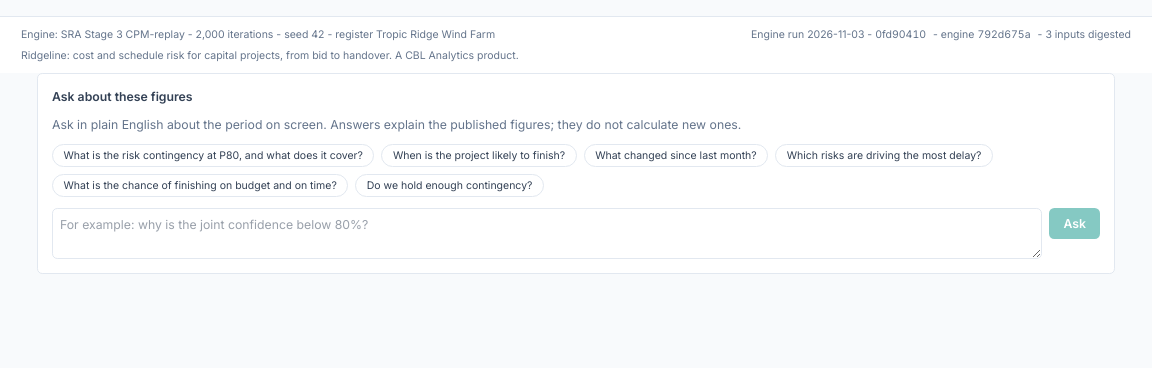
Test: the Ask box › sends only app, project, period id and question
Click the button "What is the risk contingency at P80, and what does it cover?" at coordinates (213, 156), box x1=52 y1=144 x2=374 y2=167
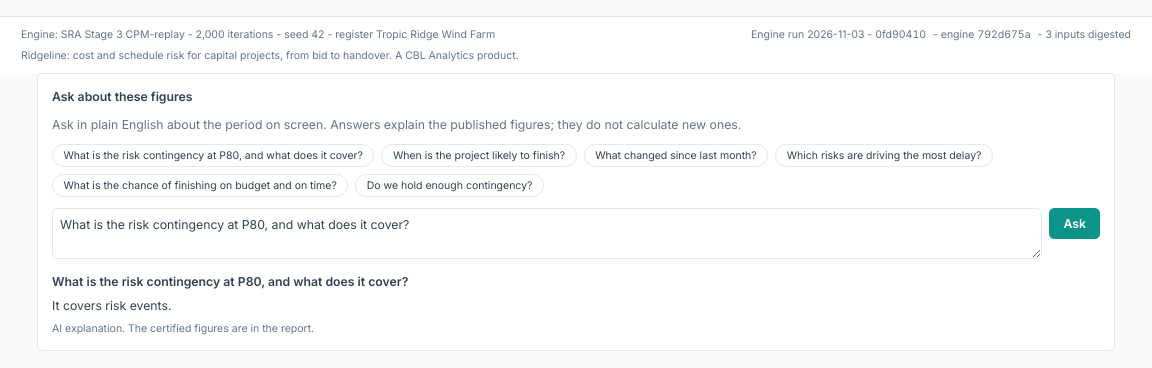
Now the text "It covers risk events." is shown, box x1=52 y1=298 x2=172 y2=313
Now the text "AI explanation. The certified figures are in the report." is shown, box x1=52 y1=322 x2=314 y2=334
